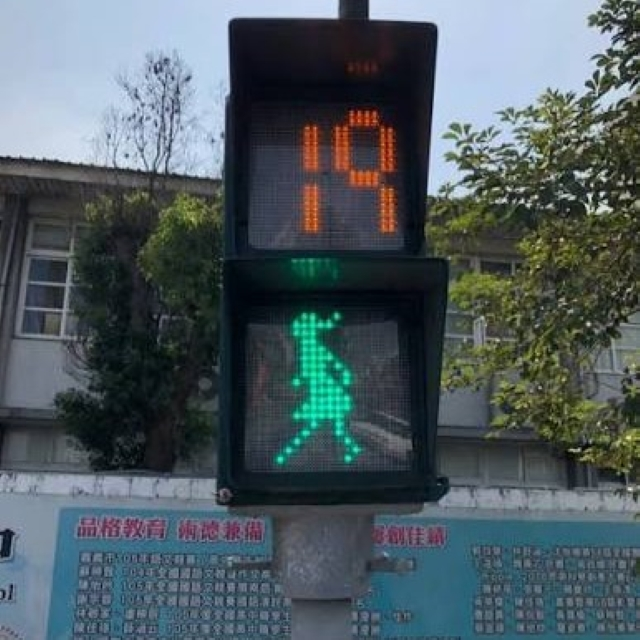green_light: (220, 19, 444, 506)
